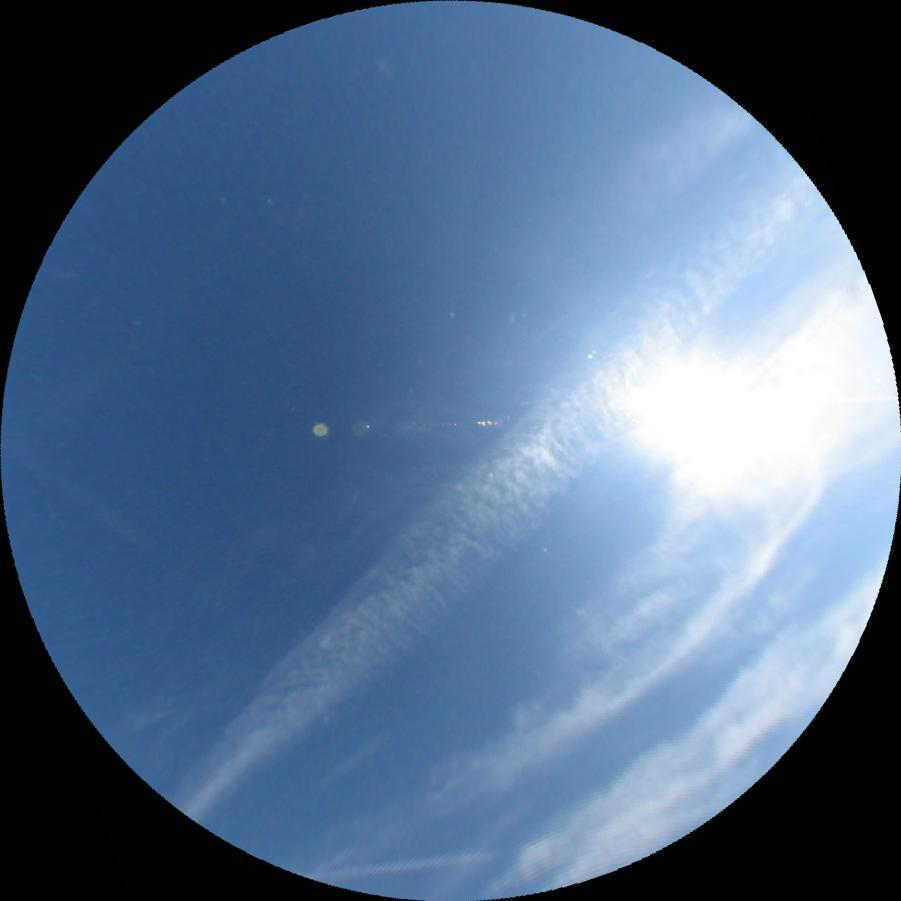contrail veryold: (162, 125, 842, 871)
contrail young: (301, 848, 494, 884)
sun: (623, 343, 771, 480)
